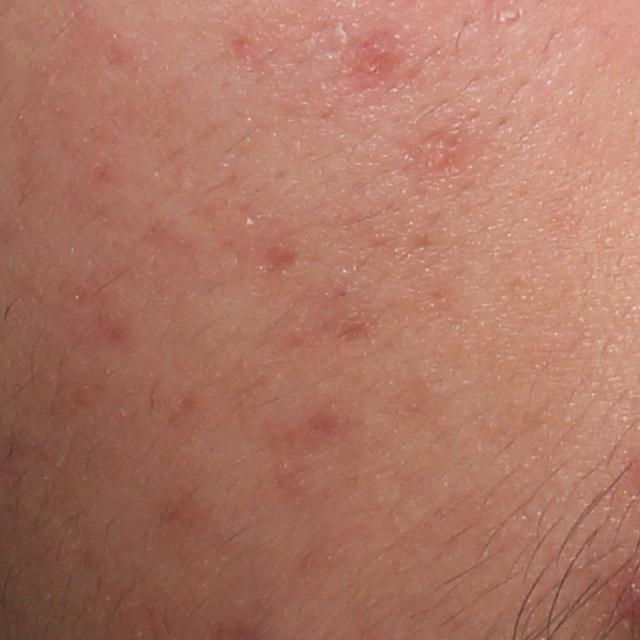atrophic_scar: (340, 27, 395, 100), (266, 248, 306, 273)
